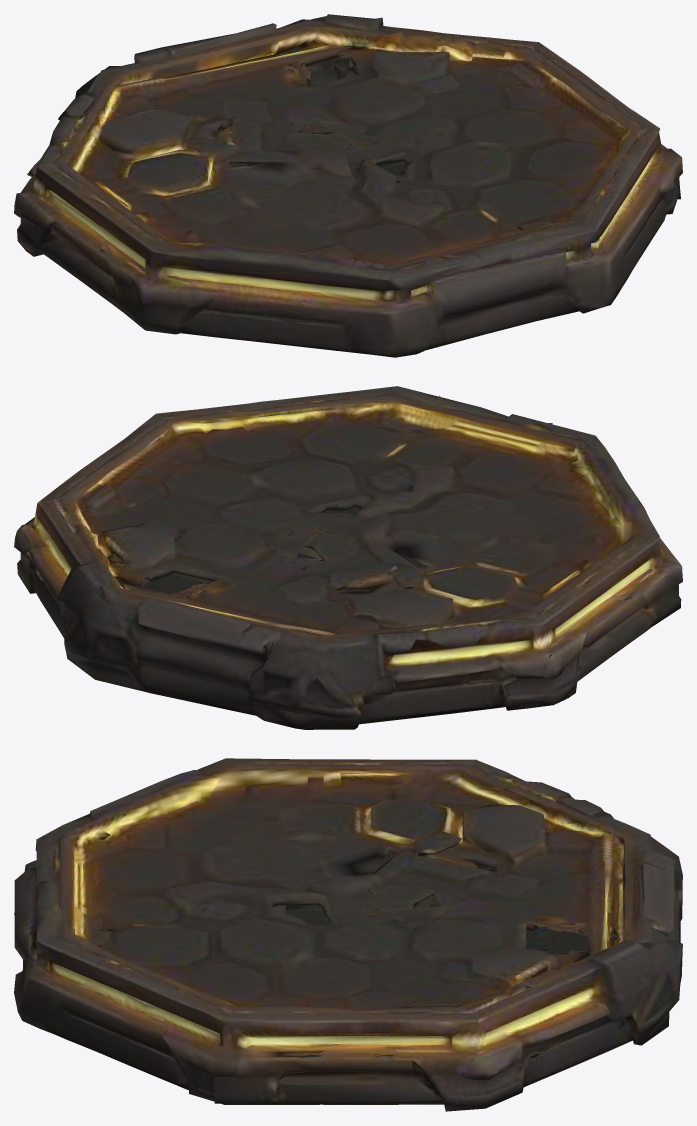
The model's file is checkpoint_pad-DdmGQ1XG.glb.
3 views of the same model, one above another, from view 1: azimuth 30°, elevation 25°; view 2: azimuth 150°, elevation 25°; view 3: azimuth 270°, elevation 25° (orthographic). The views are drawn at different scales.
Parts seen in each view (by area): view 1: tripo_node_466c5e6c-7257-4ab6-9863-544df81ced13; view 2: tripo_node_466c5e6c-7257-4ab6-9863-544df81ced13; view 3: tripo_node_466c5e6c-7257-4ab6-9863-544df81ced13.
Boxes of the visible parts, x1,y1,x2,y2 form: tripo_node_466c5e6c-7257-4ab6-9863-544df81ced13: (14,14,682,357); tripo_node_466c5e6c-7257-4ab6-9863-544df81ced13: (14,386,682,729); tripo_node_466c5e6c-7257-4ab6-9863-544df81ced13: (14,758,682,1111).
Bounding box in the file's own units: 1 × 0.1556 × 1.
Materials: 1 (1 with a texture image).
